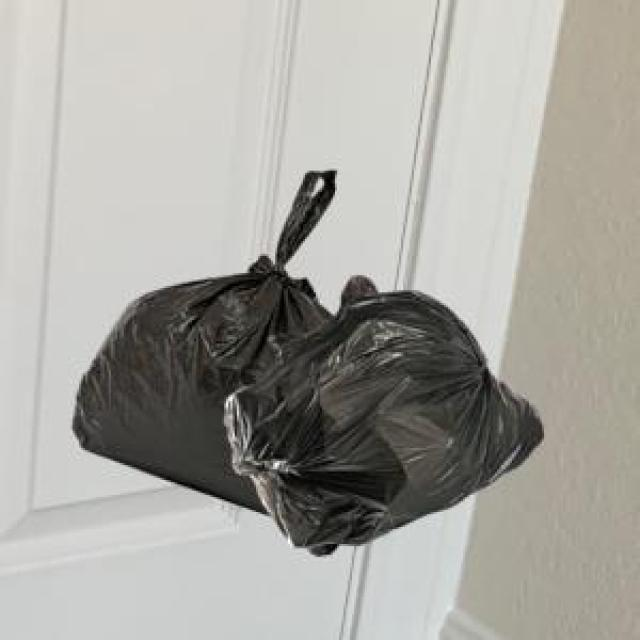Vinyl: (74, 171, 542, 554)
